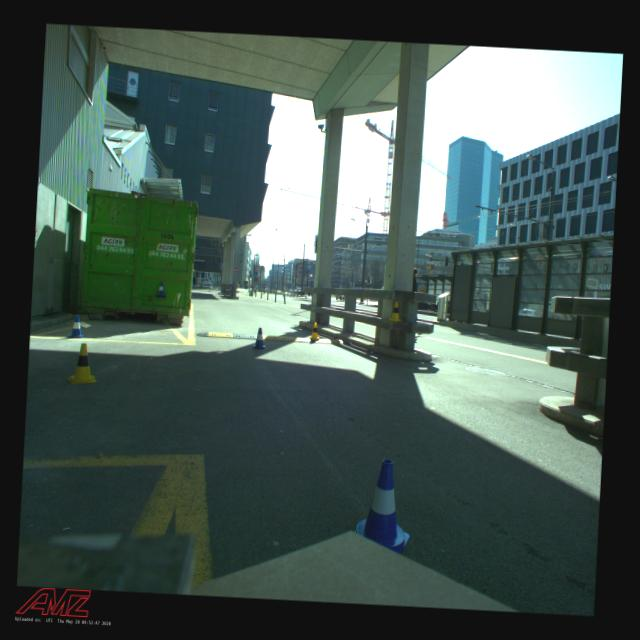blue_cone: (352, 457, 413, 552), (69, 314, 85, 339), (252, 327, 266, 350), (157, 282, 166, 296)
yellow_cone: (68, 342, 100, 384), (389, 301, 402, 323), (310, 322, 320, 339)
